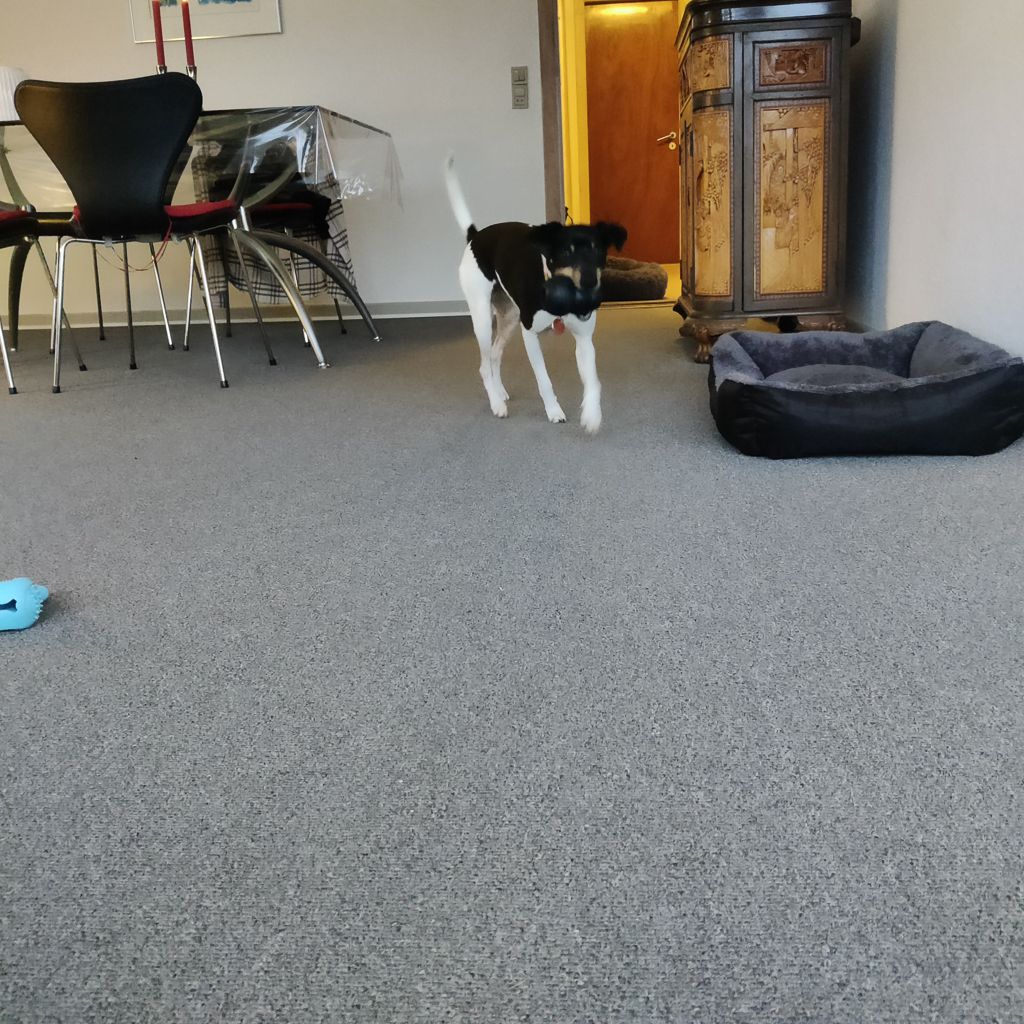Dog: (427, 140, 653, 445)
